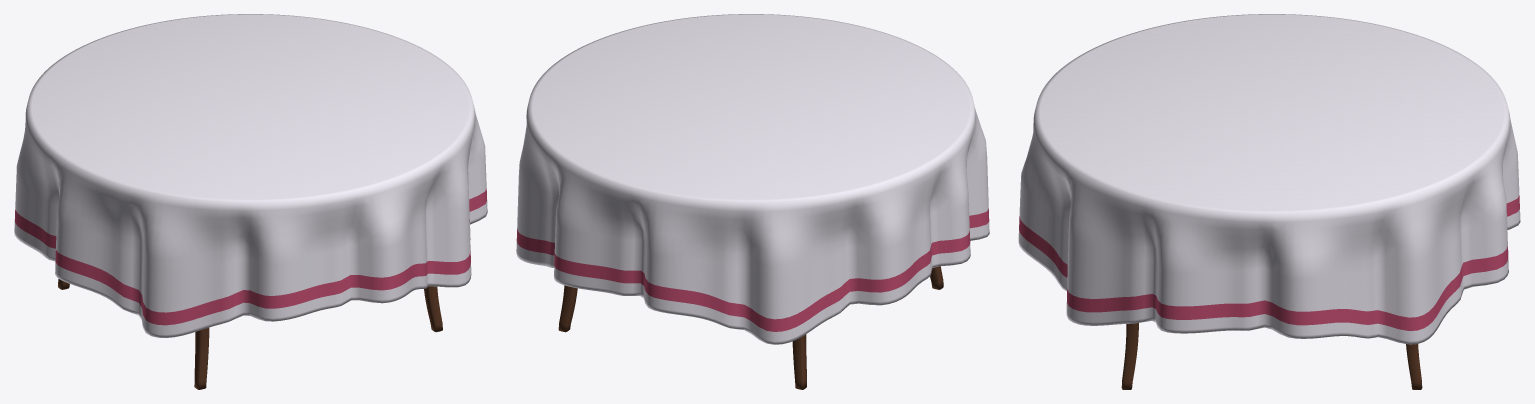
Rendered from DiningTable_FUR01.fbx.
The picture shows the model from 3 angles, left to right: view 1: azimuth 30°, elevation 25°; view 2: azimuth 150°, elevation 25°; view 3: azimuth 270°, elevation 25°; orthographic projection. The views are drawn at different scales.
Visible parts, largest first — view 1: DiningTable; view 2: DiningTable; view 3: DiningTable.
Boxes of the visible parts, box(x1,y1,x2,y2) form: DiningTable: box(14, 14, 487, 389); DiningTable: box(516, 14, 989, 389); DiningTable: box(1018, 14, 1520, 389).
Bounding box in the file's own units: 1.53 × 0.72 × 1.53.
Materials: 3 (3 with a texture image).
